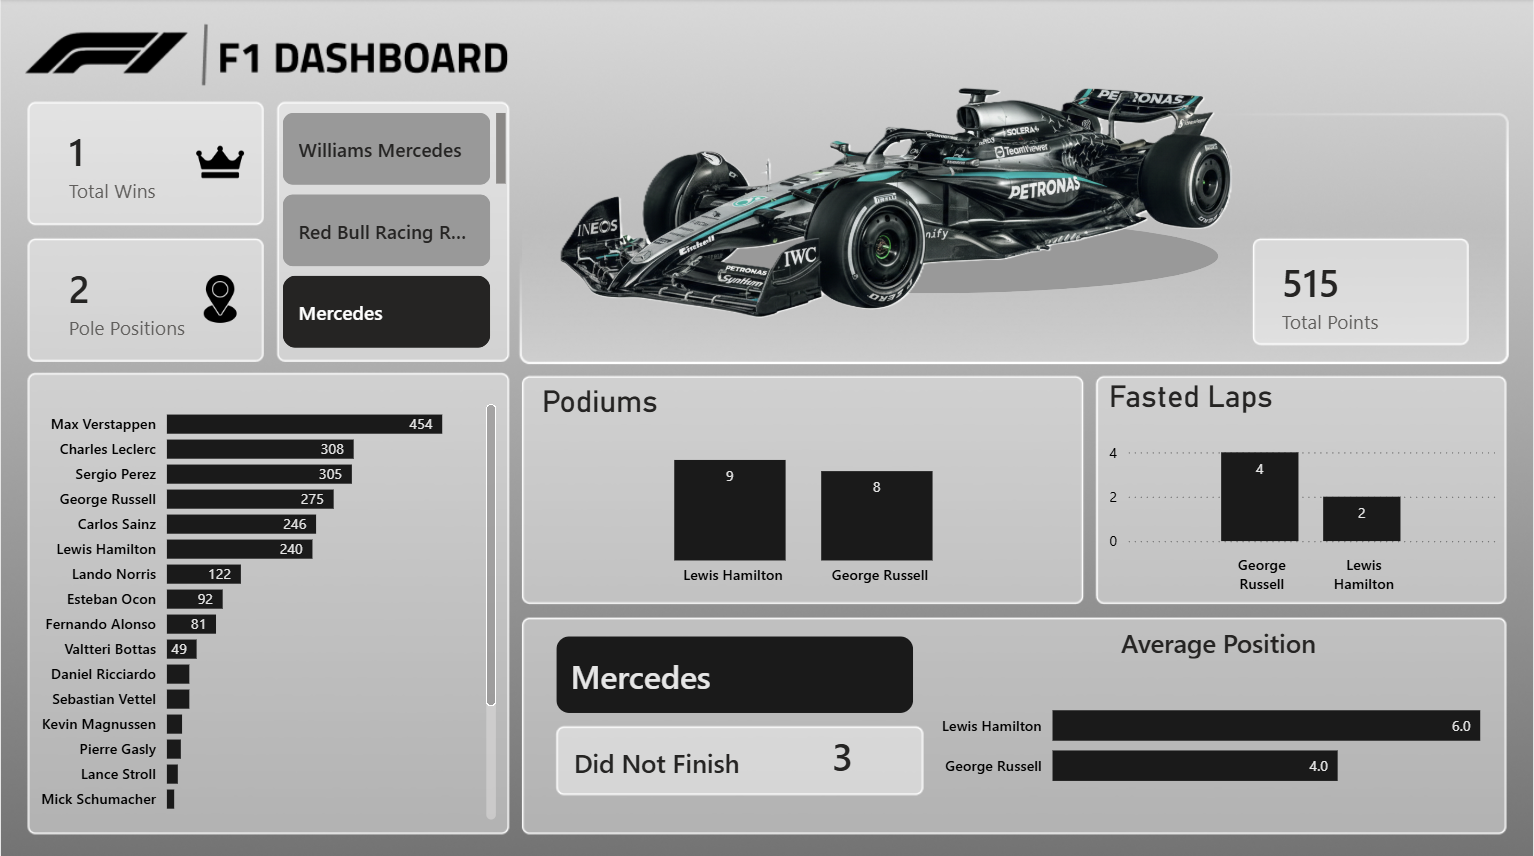

Layout of this report page (visuals, bound fields, positions):
{"tool":"powerbi","page":{"name":"Page 1","canvas":[1280,720],"ordinal":0},"visuals":[{"type":"cardVisual","fields":{"Data":["_Measure.Total Wins"]},"box":[27.2,90.5,188.7,93.4],"z":0},{"type":"cardVisual","title":"Constructor Points","fields":{"Data":["Sum(f1_data.DNFs)"]},"box":[689.5,578.8,76.5,79.2],"z":1},{"type":"cardVisual","fields":{"Data":["_Measure.Total Points"]},"box":[1040.7,199.4,188.7,93.4],"z":2},{"type":"cardVisual","fields":{"Data":["_Measure.Total Pole Positions"]},"box":[27.2,204.3,188.7,93.4],"z":3},{"type":"clusteredBarChart","fields":{"Category":["f1_data.Driver Name"],"Y":["_Measure.Total Points"]},"box":[27.2,325.8,390.8,364.6],"z":4},{"type":"shape","box":[526.6,183.6,490.6,62.1],"z":5},{"type":"cardVisual","fields":{"Data":["Min(url.url)"]},"box":[426.7,39.6,828.1,258.3],"z":6},{"type":"advancedSlicerVisual","fields":{"Values":["url.constructor"]},"box":[230.5,90.5,196.5,207.2],"z":7},{"type":"columnChart","title":"Podiums","fields":{"Category":["f1_data.Driver Name"],"Y":["_Measure.Total Podiums"]},"box":[446.5,320.5,451.9,178.2],"z":8},{"type":"columnChart","title":"Fasted Laps","fields":{"Category":["f1_data.Driver Name"],"Y":["_Measure.Total Fastest Laps"]},"box":[920.8,316.4,333.7,187.2],"z":9},{"type":"image","box":[152.2,116.4,62.1,39.8],"z":10},{"type":"image","box":[161.9,230.8,42.7,39.8],"z":11},{"type":"clusteredBarChart","title":"Average Position ","fields":{"Category":["f1_data.Driver Name"],"Y":["_Measure.Average Position"]},"box":[779.4,523,475.2,166.9],"z":12},{"type":"textbox","box":[473.5,618.4,185.4,39.6],"z":13},{"type":"cardVisual","fields":{"Data":["Min(f1_data.Constructor)"]},"box":[446.9,515.4,332.4,98.6],"z":14}]}

Visuals, with their boxes in screenshot pixels (x1, y1, x2, y2), scaled from the page's 1280x720 canvas onto the 1534x856 screenshot:
cardVisual - _Measure.Total Wins: (left=33, top=108, right=259, bottom=219)
"Constructor Points" cardVisual: (left=826, top=688, right=918, bottom=782)
cardVisual - _Measure.Total Points: (left=1247, top=237, right=1473, bottom=348)
cardVisual - _Measure.Total Pole Positions: (left=33, top=243, right=259, bottom=354)
clusteredBarChart - f1_data.Driver Name x _Measure.Total Points: (left=33, top=387, right=501, bottom=821)
shape: (left=631, top=218, right=1219, bottom=292)
cardVisual - Min(url.url): (left=511, top=47, right=1504, bottom=354)
advancedSlicerVisual - url.constructor: (left=276, top=108, right=512, bottom=354)
"Podiums" columnChart: (left=535, top=381, right=1077, bottom=593)
"Fasted Laps" columnChart: (left=1104, top=376, right=1503, bottom=599)
image: (left=182, top=138, right=257, bottom=186)
image: (left=194, top=274, right=245, bottom=322)
"Average Position " clusteredBarChart: (left=934, top=622, right=1504, bottom=820)
textbox: (left=567, top=735, right=790, bottom=782)
cardVisual - Min(f1_data.Constructor): (left=536, top=613, right=934, bottom=730)
